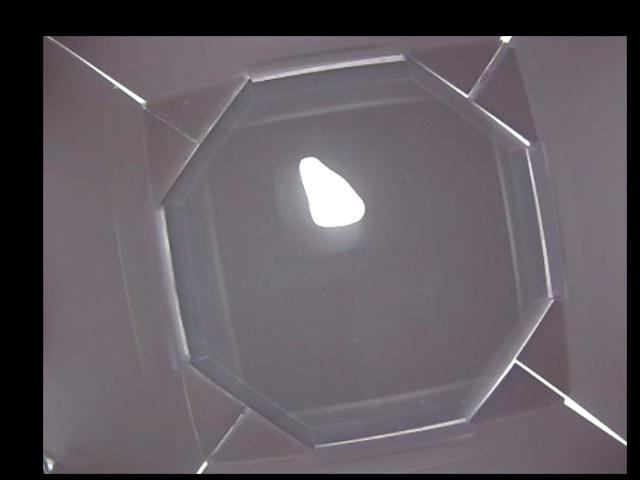Pebble: (299, 158, 366, 227)
